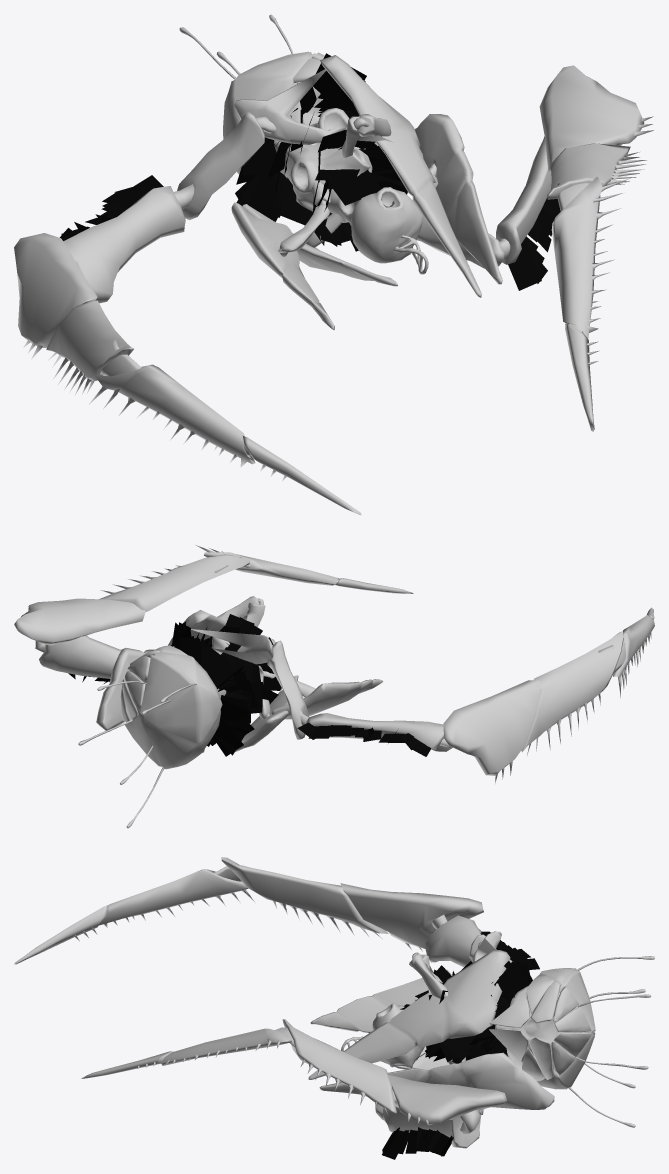
Rendered from scpd-War_death-pose_mesh.fbx.
3 views of the same model, one above another, from view 1: azimuth 30°, elevation 25°; view 2: azimuth 150°, elevation 25°; view 3: azimuth 270°, elevation 25° (orthographic). The views are drawn at different scales.
Parts seen in each view (by area): view 1: ScyphopodWarrior_LOD0; view 2: ScyphopodWarrior_LOD0; view 3: ScyphopodWarrior_LOD0.
Part boxes in pixels (bbox=[...]): ScyphopodWarrior_LOD0: bbox=[14, 14, 653, 515]; ScyphopodWarrior_LOD0: bbox=[14, 545, 654, 828]; ScyphopodWarrior_LOD0: bbox=[14, 857, 654, 1159].
Size of what is drawn, in the model's own units: 355 by 113 by 378.
